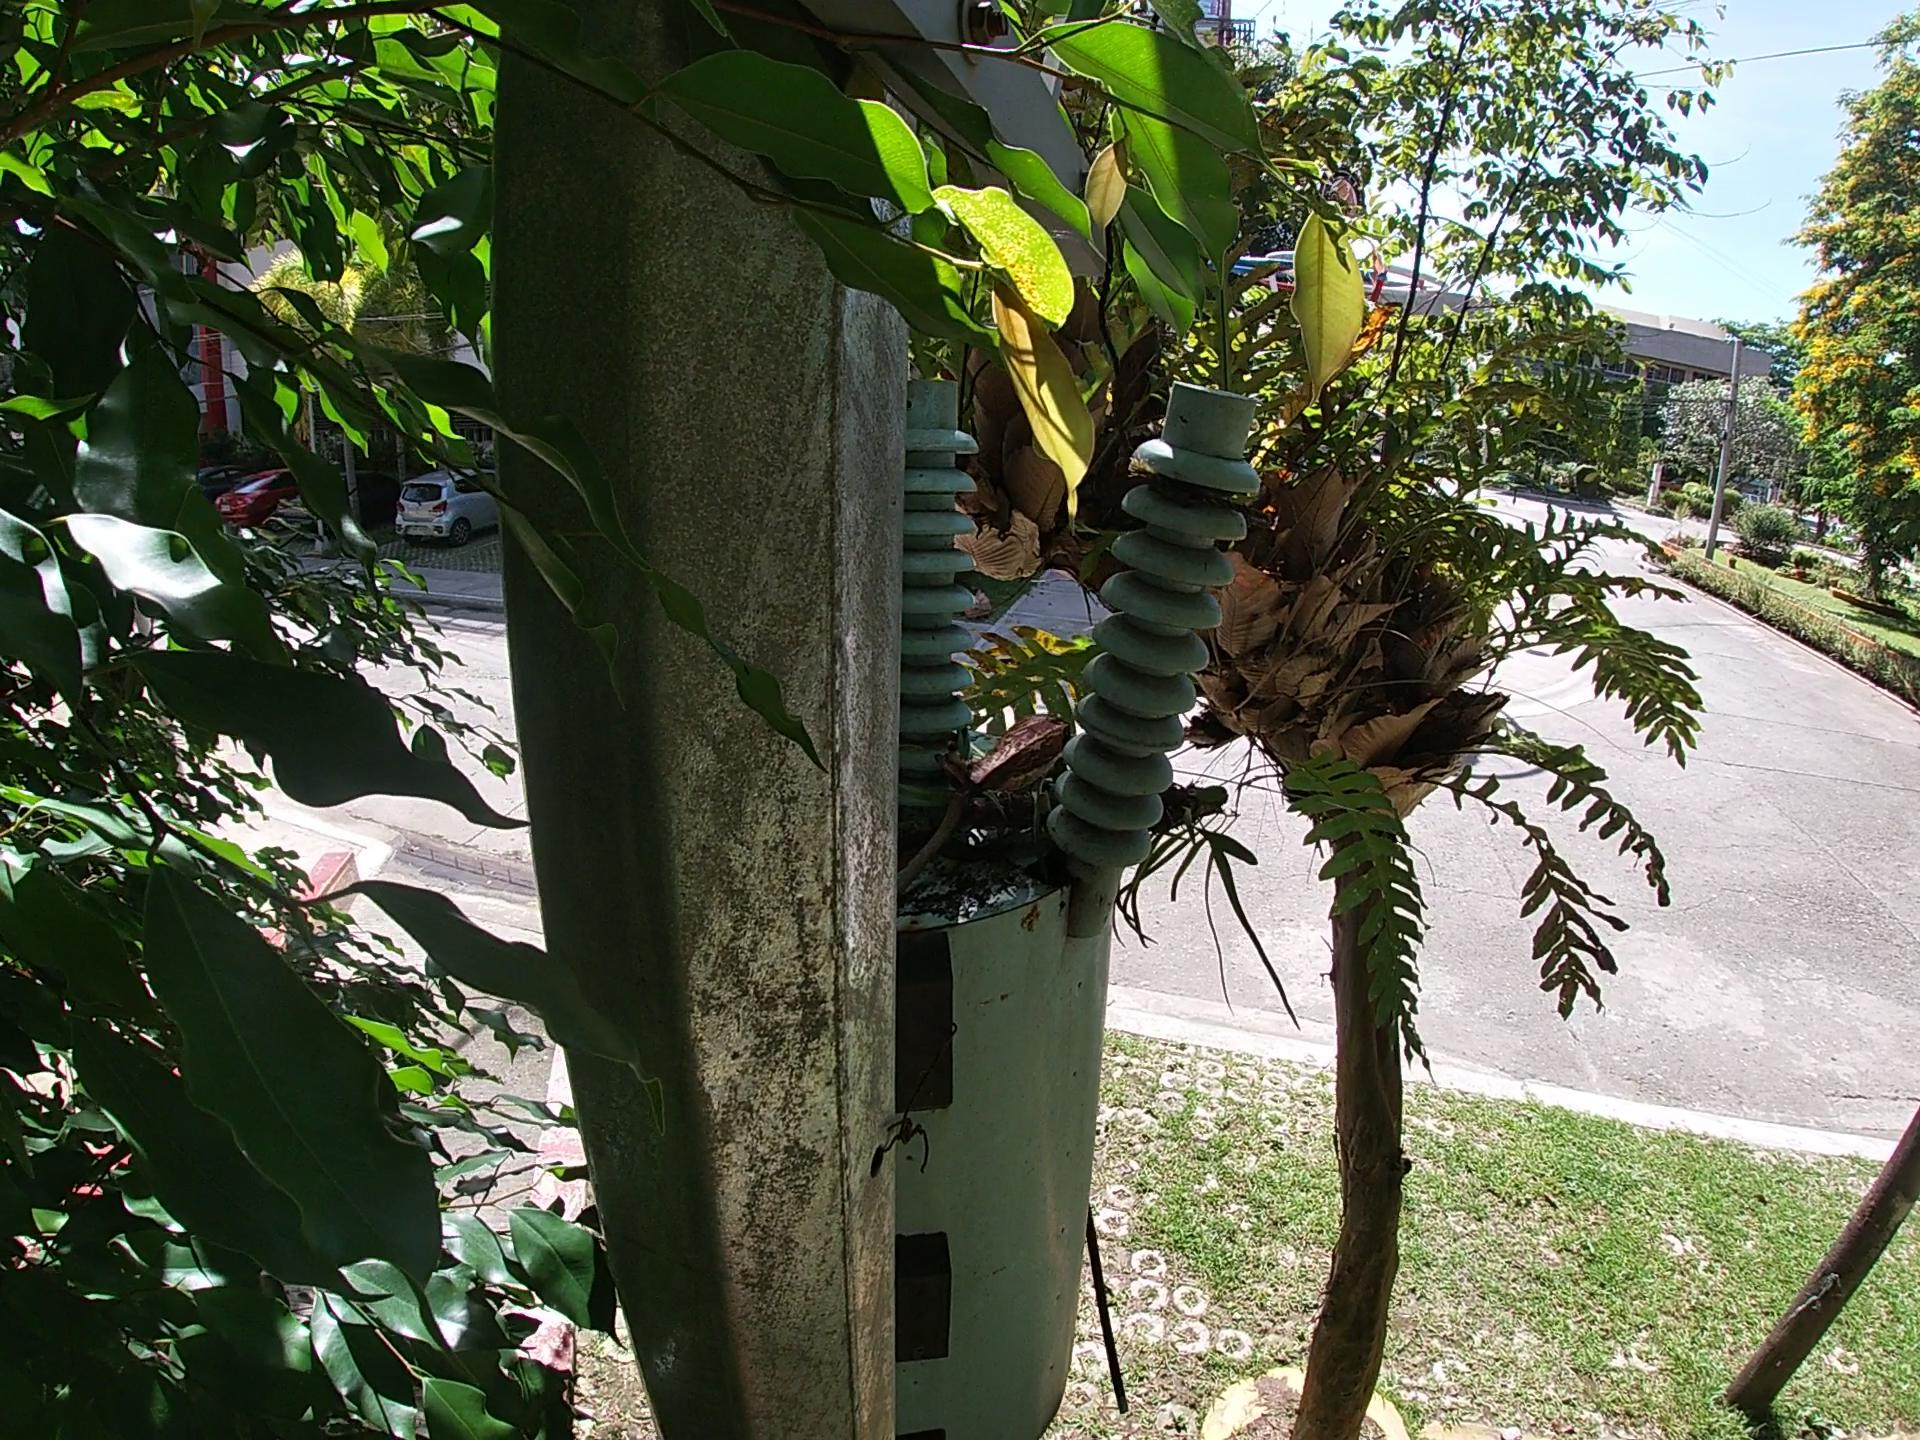branch with leaves: (859, 700, 1293, 855)
mahogany fruit: (868, 722, 1067, 858)
tree branch: (845, 706, 972, 945)
